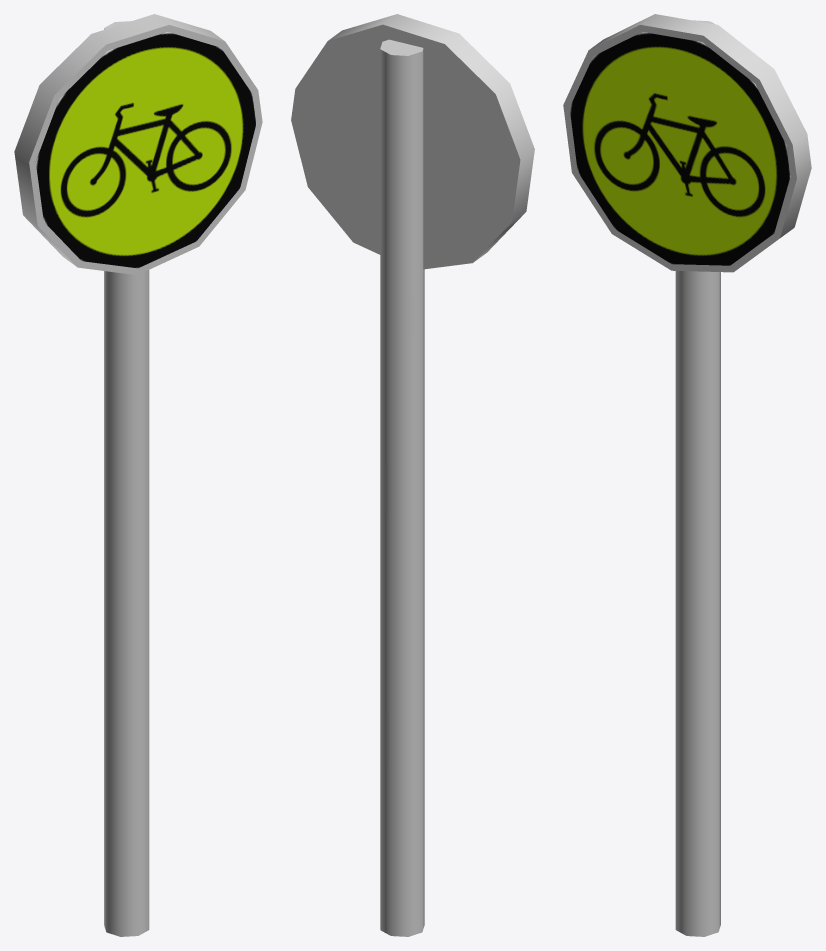
File: BIKELANE.fbx
3 views of the same model, side by side, from view 1: azimuth 30°, elevation 25°; view 2: azimuth 150°, elevation 25°; view 3: azimuth 330°, elevation 25° (orthographic).
Visible parts, largest first — view 1: pasted__pasted__pasted__pasted__pasted__pasted__pasted__past; view 2: pasted__pasted__pasted__pasted__pasted__pasted__pasted__past; view 3: pasted__pasted__pasted__pasted__pasted__pasted__pasted__past.
Part boxes in pixels (x1,y1,x2,y2): pasted__pasted__pasted__pasted__pasted__pasted__pasted__past: (14,14,262,936); pasted__pasted__pasted__pasted__pasted__pasted__pasted__past: (291,14,534,936); pasted__pasted__pasted__pasted__pasted__pasted__pasted__past: (563,14,811,936).
Bounding box in the file's own units: 1.02 × 3.81 × 0.2327.
2 materials, 1 textured.
